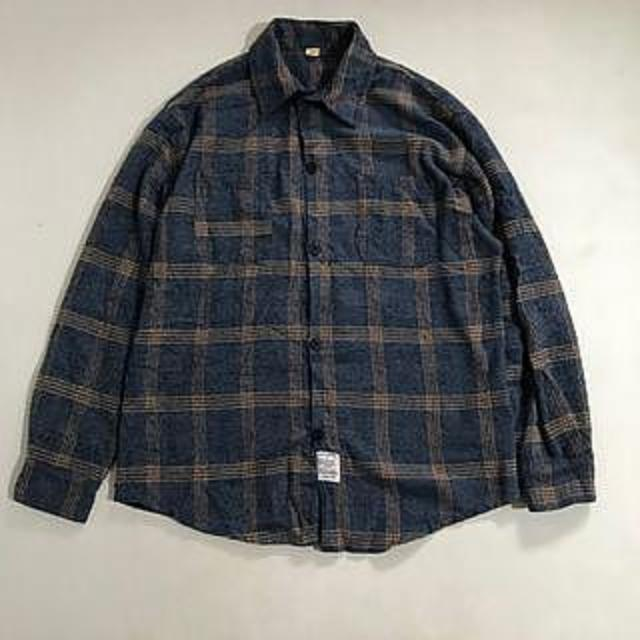SHIRT: (3, 13, 640, 563)
